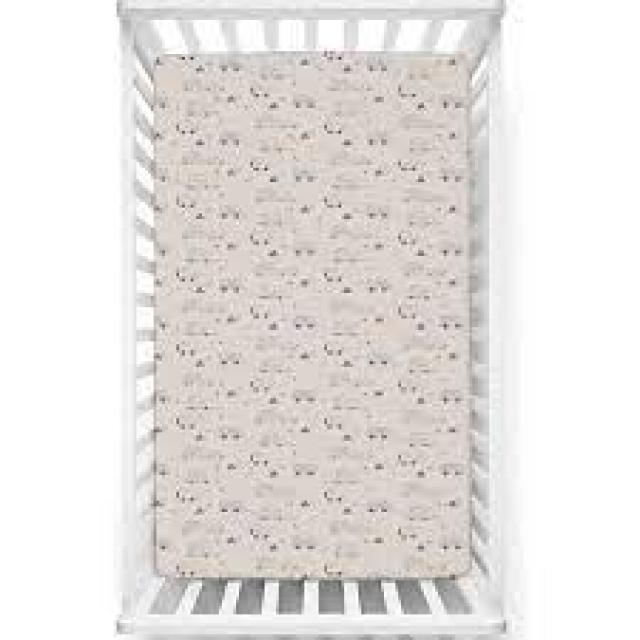crib: (111, 0, 520, 637)
